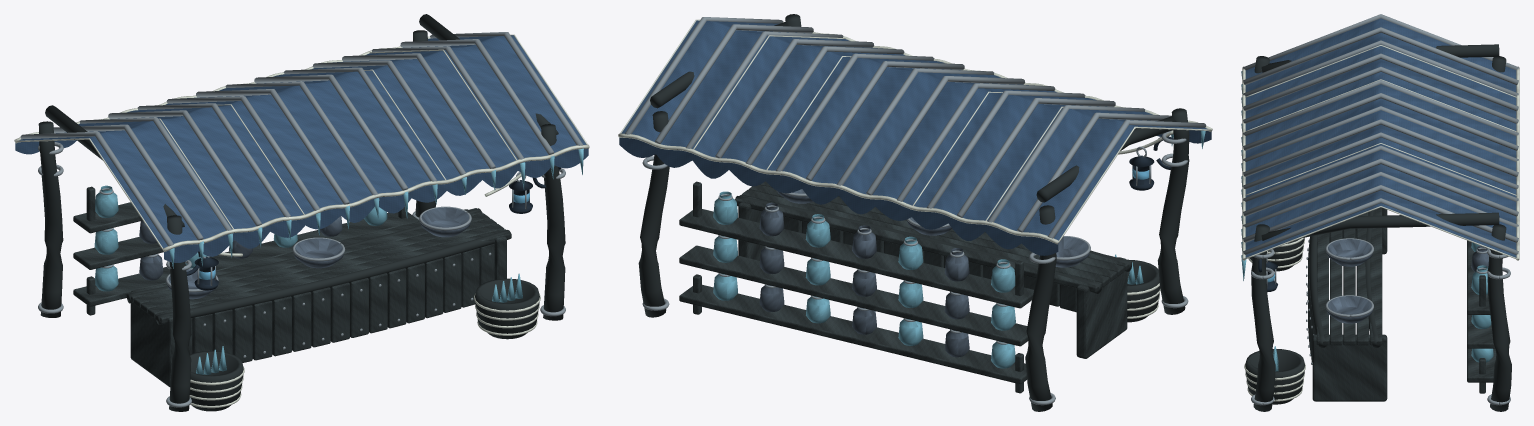
Rendered from Winter_Shop.fbx.
3 views of the same model, side by side, from view 1: azimuth 30°, elevation 25°; view 2: azimuth 150°, elevation 25°; view 3: azimuth 270°, elevation 25° (orthographic). The views are drawn at different scales.
Visible parts, largest first — view 1: Winter_Shop_Wood, Winter_Shop_Cloth, Winter_Shop_Metal, Winter_Shop_Ivory, Winter_Shop_Accent, Winter_Shop_Stone, Winter_Shop_Iron; view 2: Winter_Shop_Cloth, Winter_Shop_Wood, Winter_Shop_Metal, Winter_Shop_Accent, Winter_Shop_Stone, Winter_Shop_Ivory, Winter_Shop_Iron; view 3: Winter_Shop_Cloth, Winter_Shop_Wood, Winter_Shop_Metal, Winter_Shop_Ivory, Winter_Shop_Stone, Winter_Shop_Accent.
Boxes of the visible parts, bbox=[...] form: Winter_Shop_Wood: bbox=[38, 14, 565, 411]; Winter_Shop_Cloth: bbox=[15, 35, 588, 262]; Winter_Shop_Metal: bbox=[20, 32, 582, 407]; Winter_Shop_Ivory: bbox=[14, 34, 589, 408]; Winter_Shop_Accent: bbox=[94, 148, 583, 374]; Winter_Shop_Stone: bbox=[139, 207, 470, 299]; Winter_Shop_Iron: bbox=[186, 167, 560, 290]; Winter_Shop_Cloth: bbox=[619, 20, 1211, 255]; Winter_Shop_Wood: bbox=[638, 14, 1189, 411]; Winter_Shop_Metal: bbox=[625, 17, 1206, 405]; Winter_Shop_Accent: bbox=[713, 130, 1205, 368]; Winter_Shop_Stone: bbox=[759, 189, 1089, 357]; Winter_Shop_Ivory: bbox=[618, 19, 1212, 318]; Winter_Shop_Iron: bbox=[1129, 136, 1173, 190]; Winter_Shop_Cloth: bbox=[1245, 18, 1516, 257]; Winter_Shop_Wood: bbox=[1245, 44, 1511, 411]; Winter_Shop_Metal: bbox=[1243, 14, 1518, 405]; Winter_Shop_Ivory: bbox=[1242, 45, 1519, 401]; Winter_Shop_Stone: bbox=[1326, 239, 1488, 323]; Winter_Shop_Accent: bbox=[1241, 71, 1493, 371].
Bounding box in the file's own units: 10.93 × 5.96 × 6.71.
